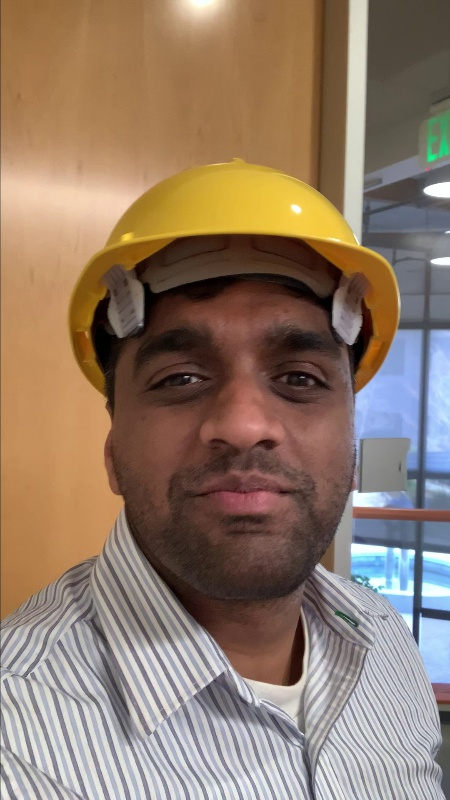helmet: (60, 148, 402, 341)
